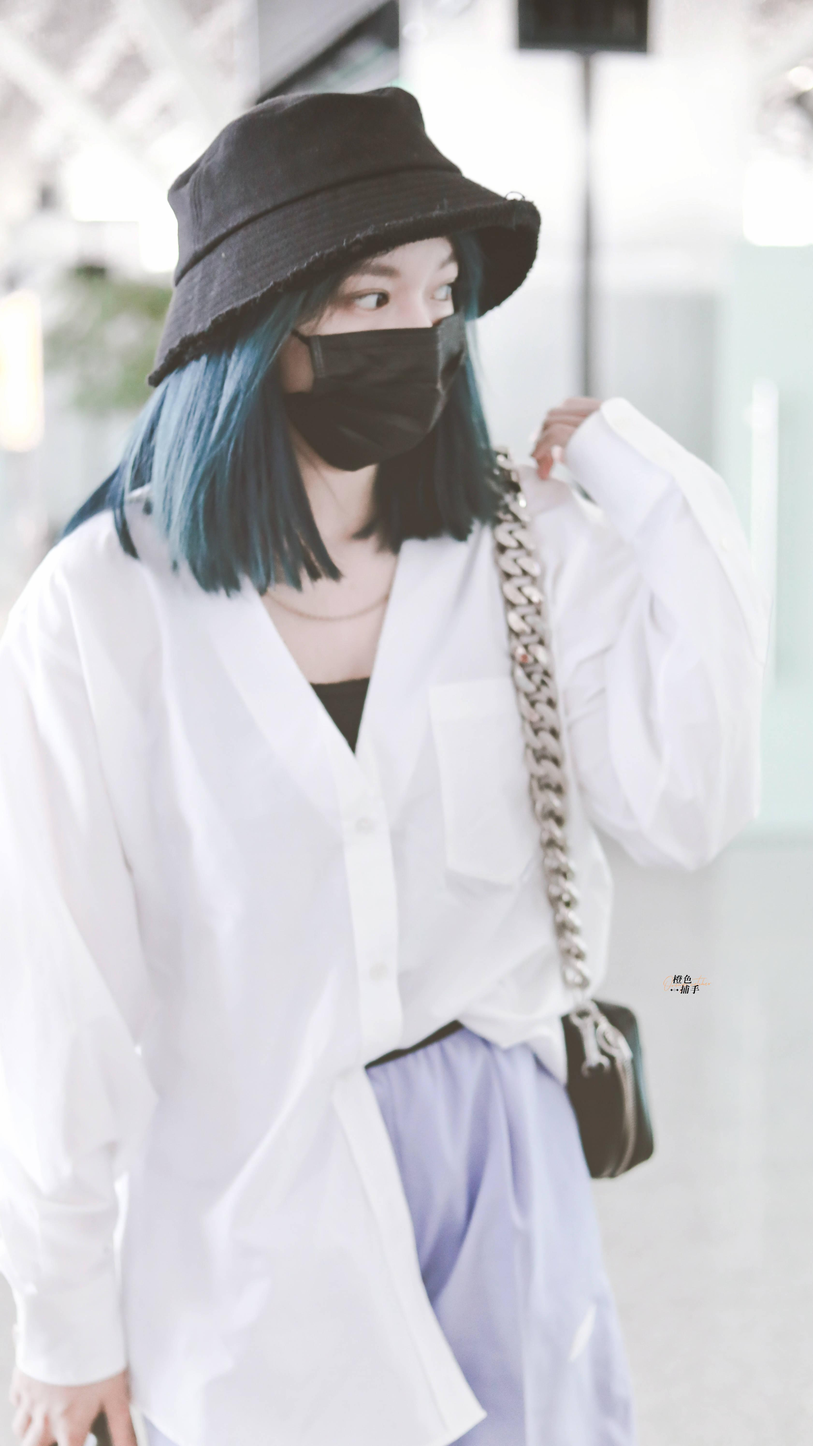OK: (300, 228, 458, 470)
